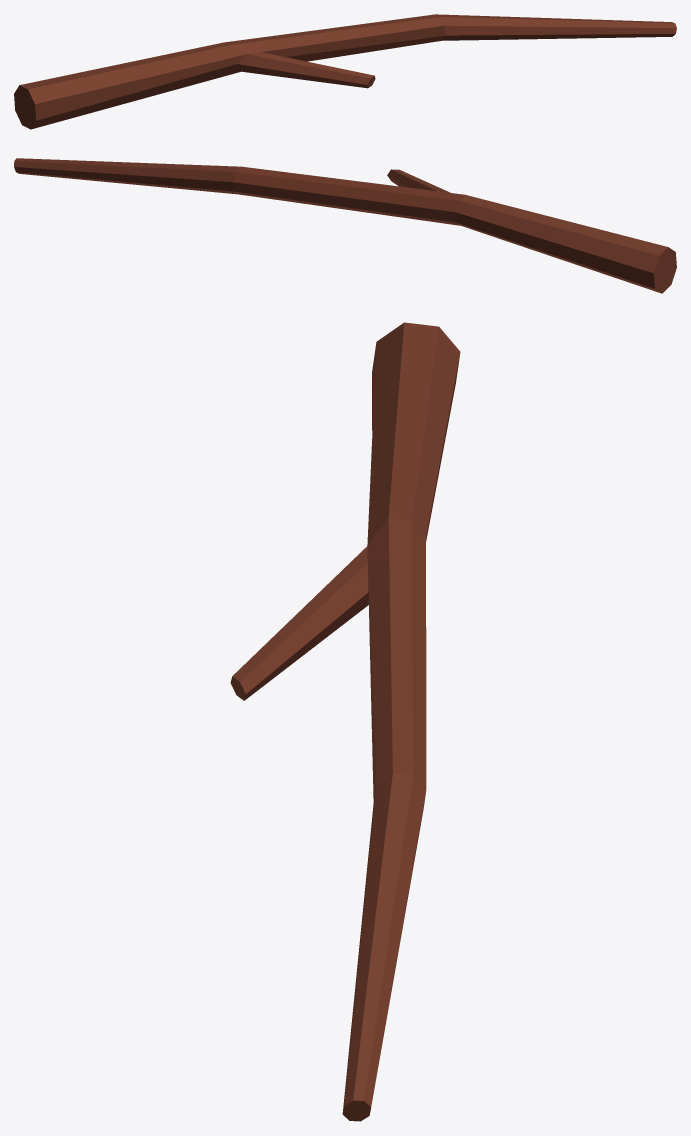
Rendered from pine_branch_type_6_LOD0.fbx.
3 views of the same model, one above another, from view 1: azimuth 30°, elevation 25°; view 2: azimuth 150°, elevation 25°; view 3: azimuth 270°, elevation 25° (orthographic). The views are drawn at different scales.
Parts seen in each view (by area): view 1: Circle.036; view 2: Circle.036; view 3: Circle.036.
Boxes of the visible parts, x1,y1,x2,y2 form: Circle.036: (14,14,676,129); Circle.036: (14,158,676,293); Circle.036: (230,322,460,1121).
Bounding box in the file's own units: 404 × 55.92 × 63.4.
